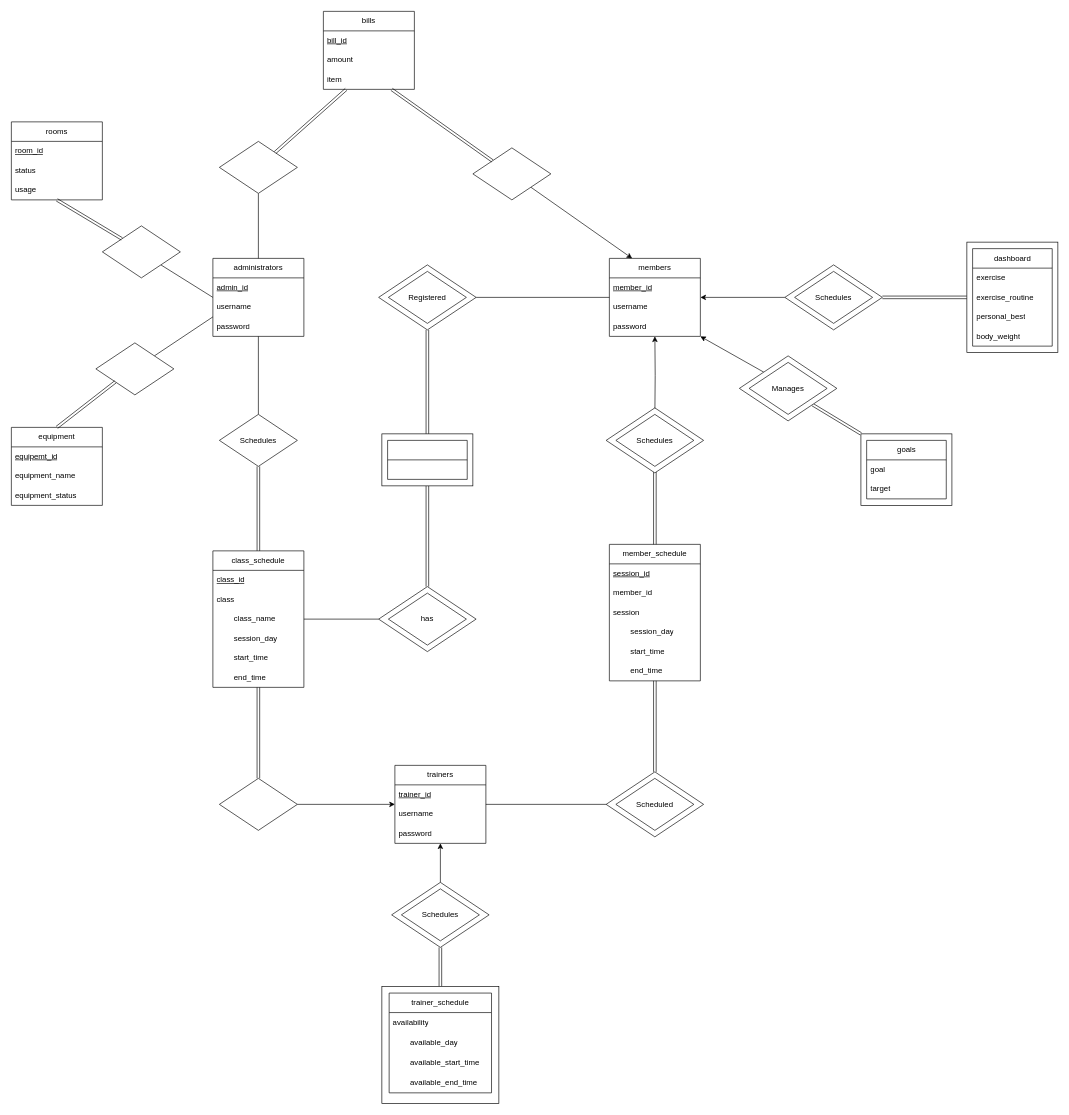
Some shapes in this 1069 by 1115 pixel diagram are drawn without their labels. Here are the shapes that lost their labels. From the top down, the centre of each, then its label:
At point 258,167: "Issues".
At point 511,173: "IssuedTo".
At point 141,251: "UpdatesRoom".
At point 134,368: "Monitors".
At point 427,459: "class_regestration".
At point 258,804: "Assigned".
